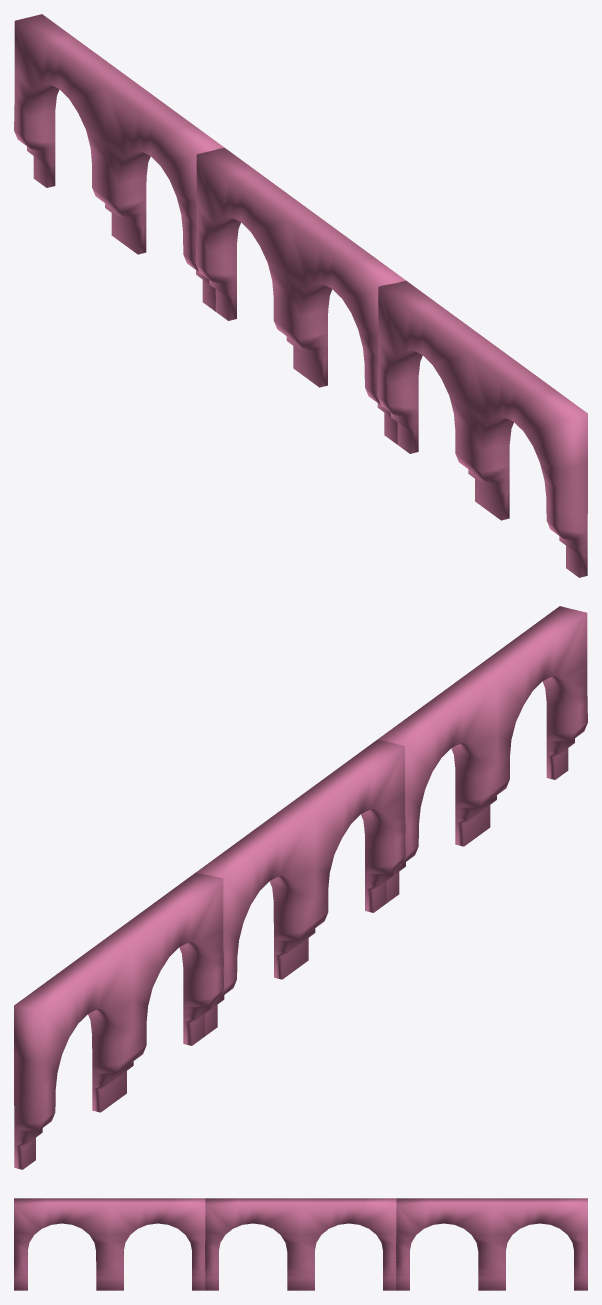
File: Wall_Orn_02_x3.fbx
3 views of the same model, one above another, from view 1: azimuth 30°, elevation 25°; view 2: azimuth 150°, elevation 25°; view 3: azimuth 270°, elevation 25° (orthographic). The views are drawn at different scales.
Parts seen in each view (by area): view 1: Wall_Orn_02_x3; view 2: Wall_Orn_02_x3; view 3: Wall_Orn_02_x3.
Part boxes in pixels (<box>): Wall_Orn_02_x3: <box>14,14,587,577</box>; Wall_Orn_02_x3: <box>14,606,587,1169</box>; Wall_Orn_02_x3: <box>14,1198,587,1290</box>.
Size of the model in its own units: 27.42 by 148 by 901.
